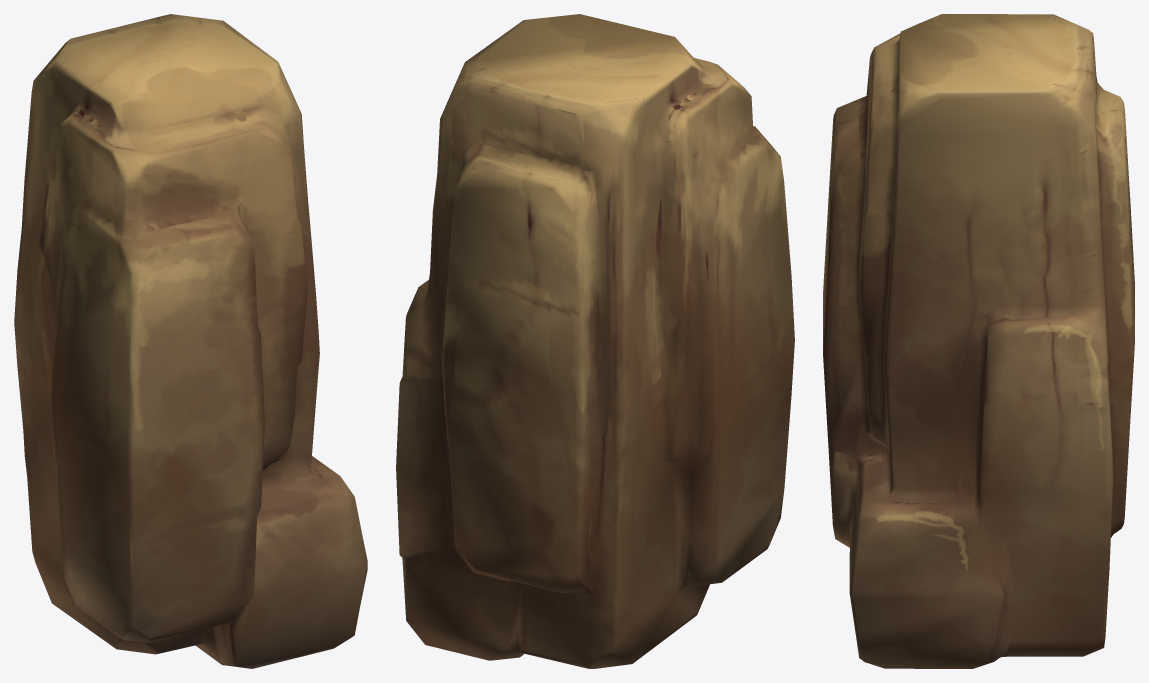
The model's file is Med_Rock.glb.
3 views of the same model, side by side, from view 1: azimuth 30°, elevation 25°; view 2: azimuth 150°, elevation 25°; view 3: azimuth 270°, elevation 25° (orthographic). The views are drawn at different scales.
Visible parts, largest first — view 1: Med Rock LP; view 2: Med Rock LP; view 3: Med Rock LP.
Boxes of the visible parts, x1,y1,x2,y2 form: Med Rock LP: (14,14,367,668); Med Rock LP: (396,14,794,668); Med Rock LP: (823,14,1134,668).
Bounding box in the file's own units: 3.01 × 6.39 × 3.23.
Materials: 1 (1 with a texture image).
